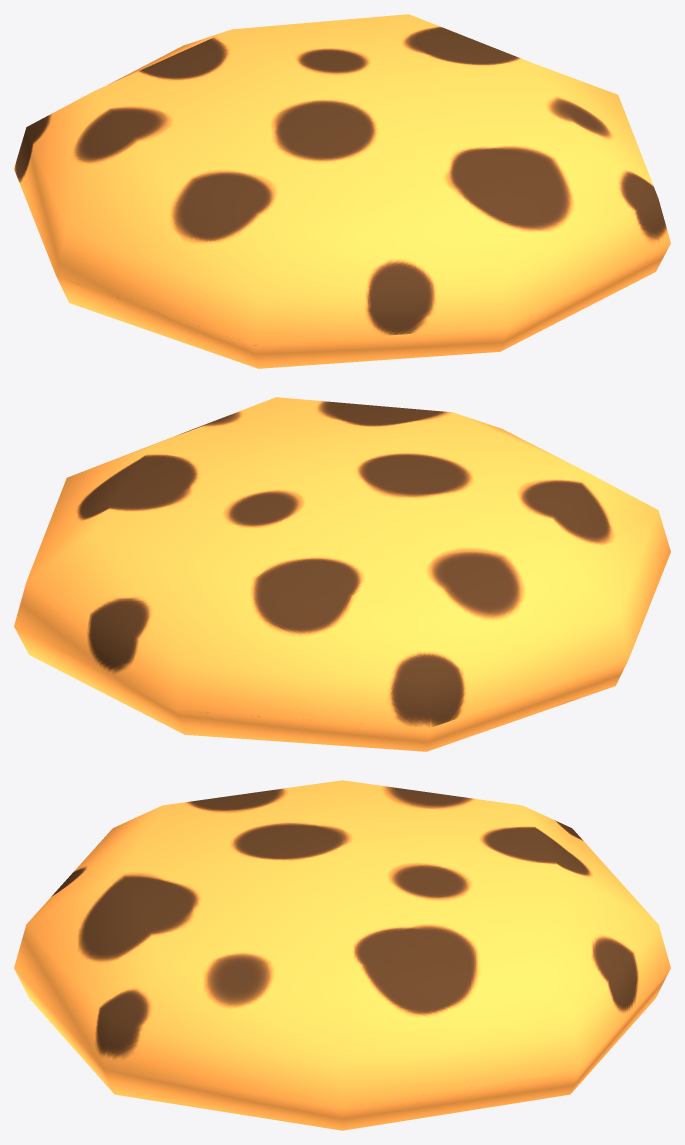
File: Cookie.glb
3 views of the same model, one above another, from view 1: azimuth 30°, elevation 25°; view 2: azimuth 150°, elevation 25°; view 3: azimuth 270°, elevation 25° (orthographic).
Visible parts, largest first — view 1: Cookie; view 2: Cookie; view 3: Cookie.
Part boxes in pixels (x1,y1,x2,y2): Cookie: (14,14,670,368); Cookie: (14,397,670,751); Cookie: (14,780,670,1130).
Bounding box in the file's own units: 2.77 × 0.6657 × 2.77.
Materials: 1 (1 with a texture image).
